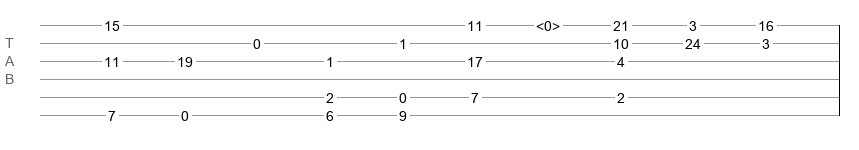0: (181, 108, 189, 118), (253, 36, 261, 46), (399, 90, 407, 100)
1: (326, 54, 334, 64), (399, 36, 407, 46)
10: (613, 36, 629, 46)
11: (104, 54, 120, 64), (467, 18, 483, 28)
15: (104, 18, 120, 28)
16: (758, 18, 774, 28)
17: (467, 54, 483, 64)
19: (177, 54, 193, 64)
2: (326, 90, 334, 100), (617, 90, 625, 100)
21: (613, 18, 629, 28)
24: (685, 36, 701, 46)
3: (689, 18, 697, 28), (762, 36, 770, 46)
4: (617, 54, 625, 64)
6: (326, 108, 334, 118)
7: (108, 108, 116, 118), (471, 90, 479, 100)
9: (399, 108, 407, 118)
harmonic: (536, 18, 560, 28)
